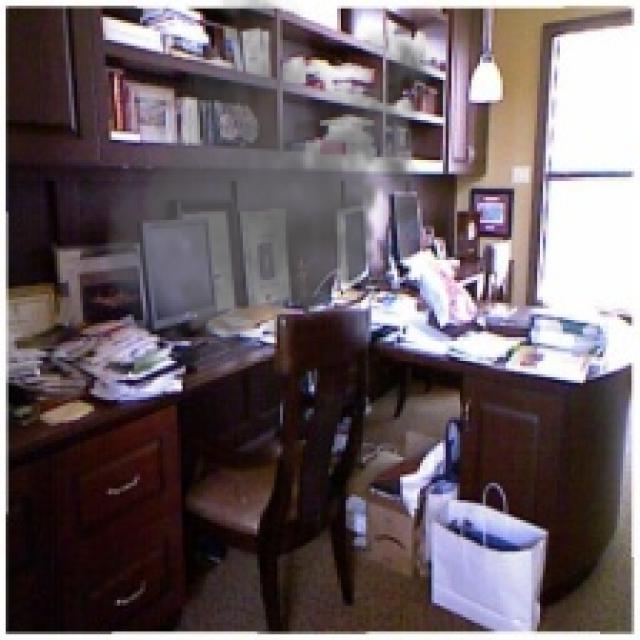Smoke: (97, 0, 443, 372)
